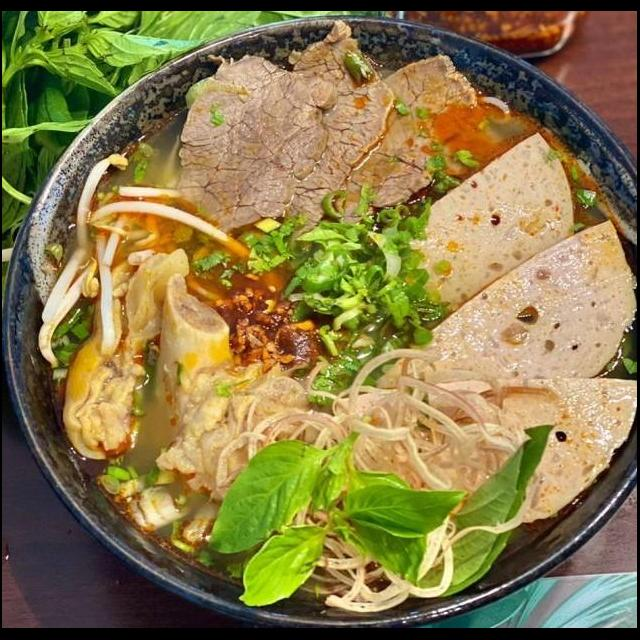thit bo: (235, 392, 408, 626), (132, 408, 332, 592), (296, 392, 478, 590)
